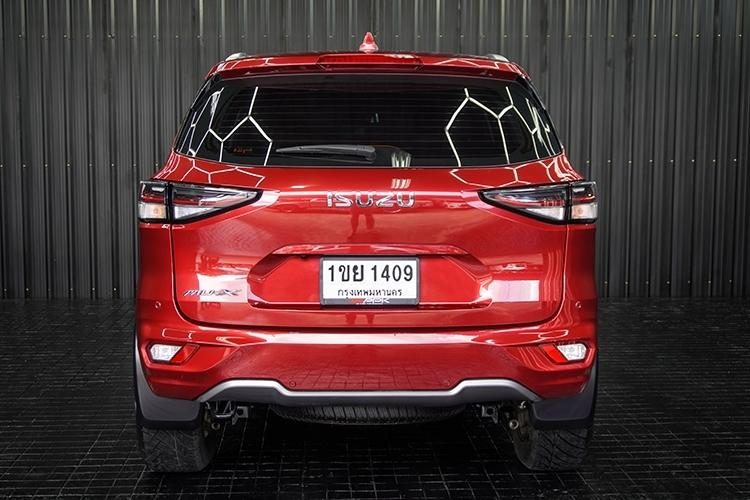license-plate: (317, 254, 420, 309)
